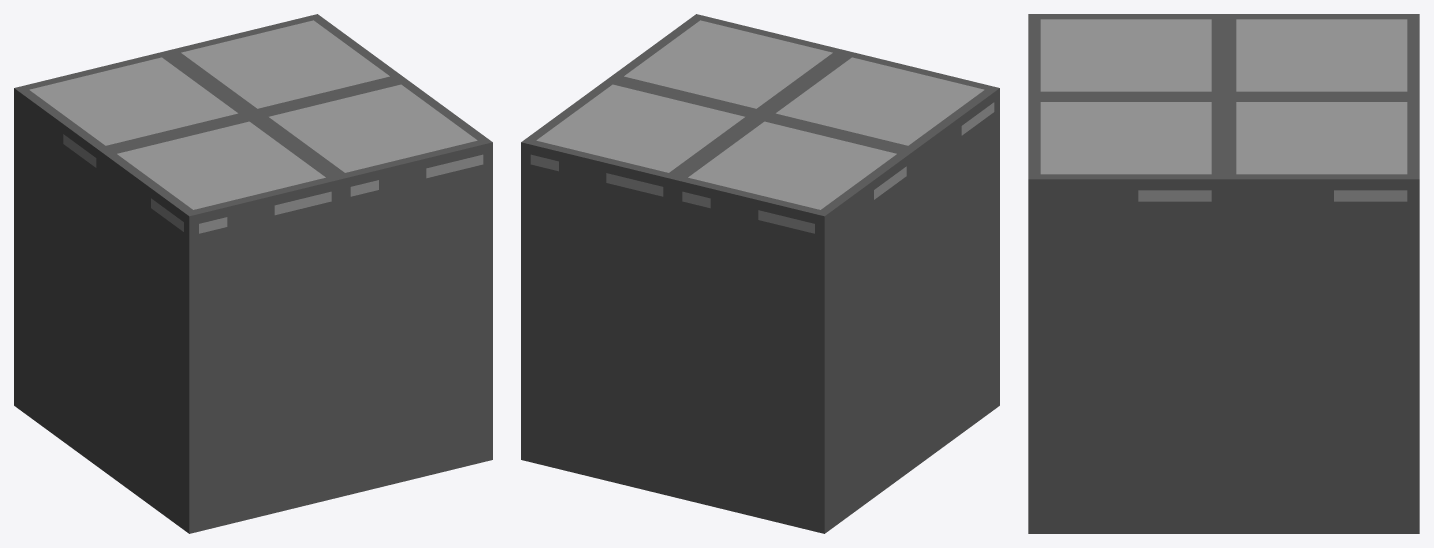
Rendered from Road_Tile.obj.
3 renders of one model, left to right at view 1: azimuth 30°, elevation 25°; view 2: azimuth 150°, elevation 25°; view 3: azimuth 270°, elevation 25°, orthographic. The views are drawn at different scales.
Bounding box in the file's own units: 3.2 × 3.2 × 3.2.
Materials: 1 (1 with a texture image).
